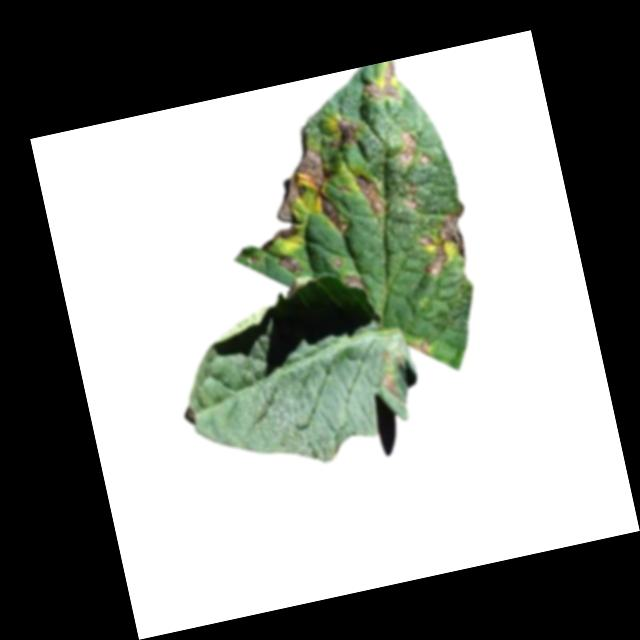Early_blight: (263, 140, 353, 246), (412, 204, 479, 280), (358, 59, 405, 108), (375, 347, 413, 404), (391, 127, 430, 171), (352, 169, 385, 219), (261, 223, 302, 248), (335, 115, 360, 148), (405, 334, 433, 362), (276, 252, 303, 279), (402, 178, 422, 213), (341, 272, 365, 292), (330, 255, 347, 269)
